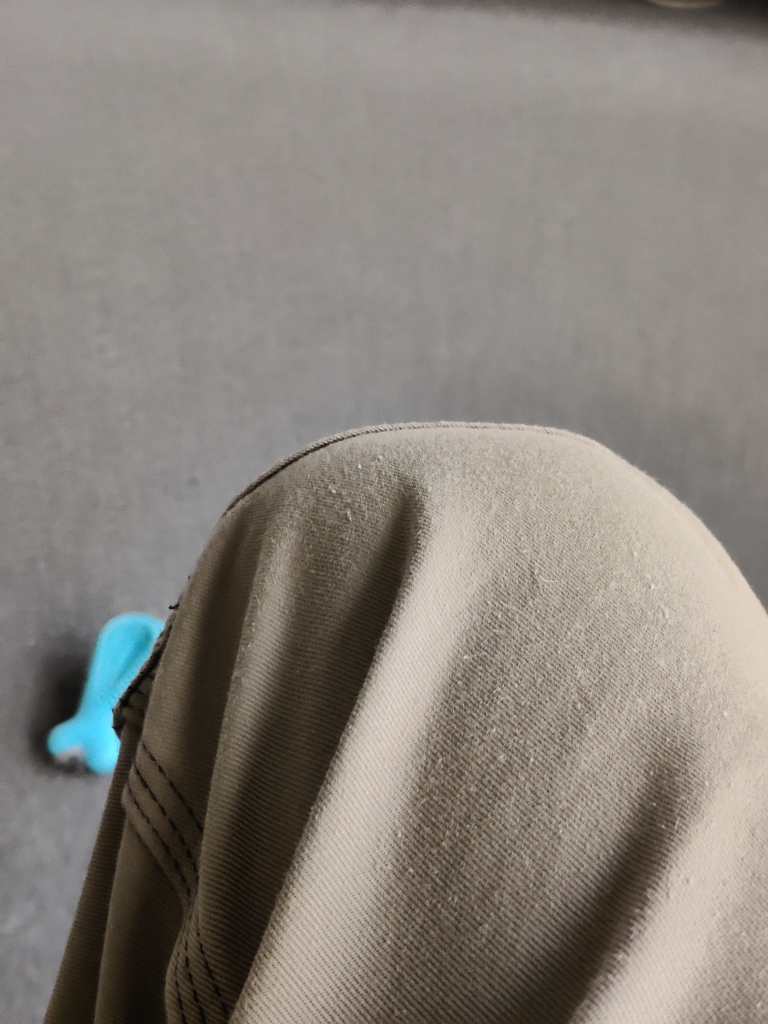Humanoid: (32, 400, 768, 1024)
